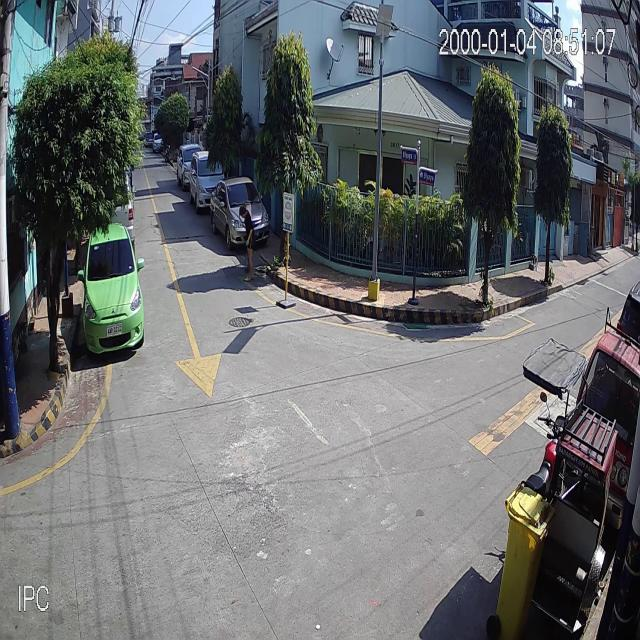walking: (238, 200, 256, 284)
